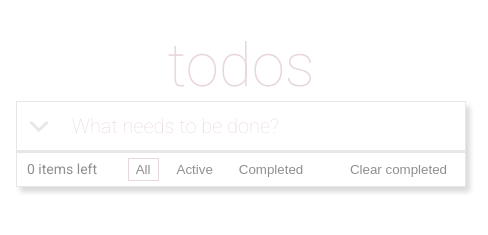
Scenario: todo › Добавление todo
Step 1. Type "New Task" into the field with placeholder "What needs to be done?" → x=263, y=126, box [62, 102, 465, 150]
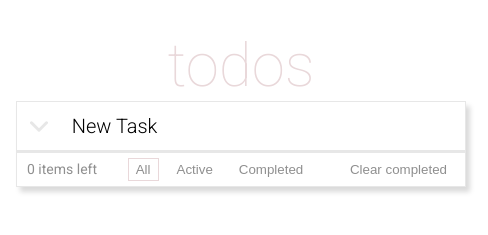
Step 2. Submit the form from the field with placeholder "What needs to be done?", box [62, 102, 465, 150]
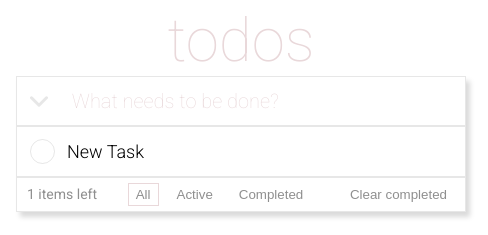
Result: the text "New Task" is shown at [67, 140, 144, 162]
